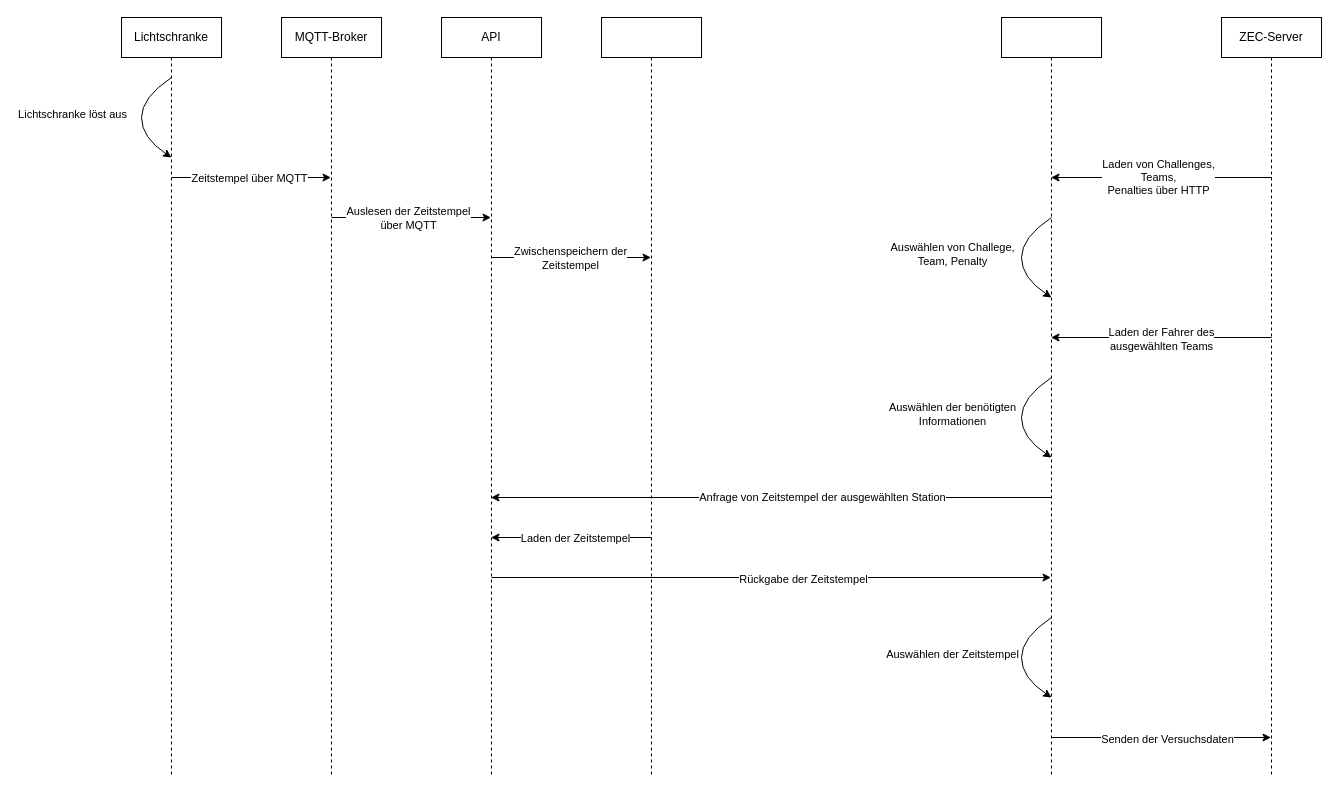
Some shapes in this 1339 by 795 pixel diagram are drawn without their labels. Here are the shapes that lost their labels. From the top down, the box of each, then its label:
(600, 16, 702, 778): Redis
(1000, 16, 1102, 778): Zeitnehmer-applikation
